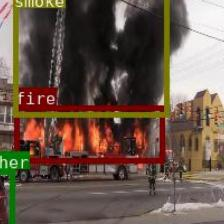fire: (13, 105, 164, 162)
smoke: (13, 0, 168, 116)
